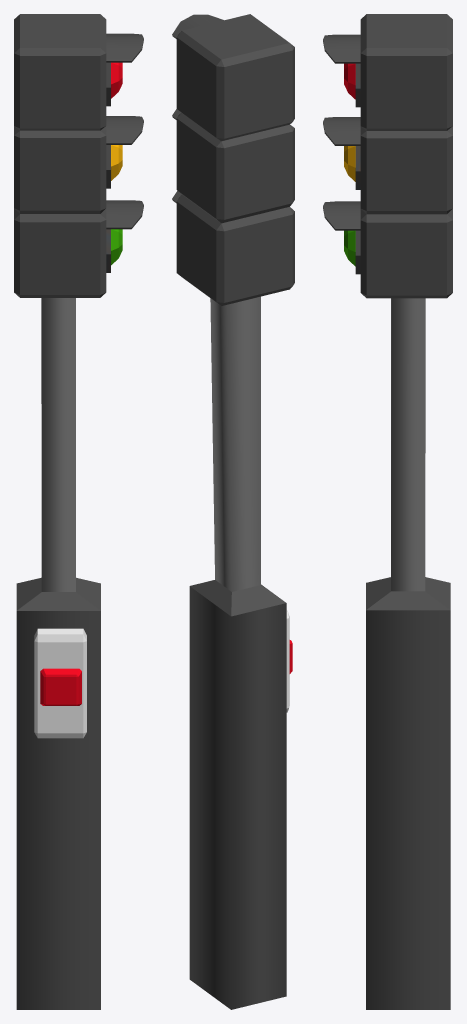
The model's file is SM_Traffic_Light1.fbx.
3 renders of one model, left to right at view 1: azimuth 90°, elevation 25°; view 2: azimuth 210°, elevation 25°; view 3: azimuth 270°, elevation 25°, orthographic.
Parts seen in each view (by area): view 1: SM_Traffic_Light1; view 2: SM_Traffic_Light1; view 3: SM_Traffic_Light1.
Boxes of the visible parts, bbox=[...] form: SM_Traffic_Light1: bbox=[14, 14, 143, 1009]; SM_Traffic_Light1: bbox=[172, 14, 294, 1009]; SM_Traffic_Light1: bbox=[323, 14, 452, 1009].
Bounding box in the file's own units: 68.1 × 698 × 85.04.
